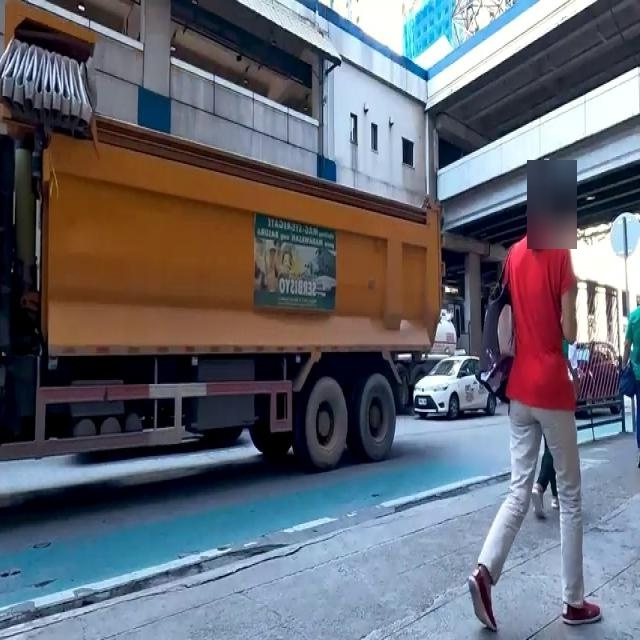car: (415, 351, 493, 421)
truck: (0, 90, 440, 490)
